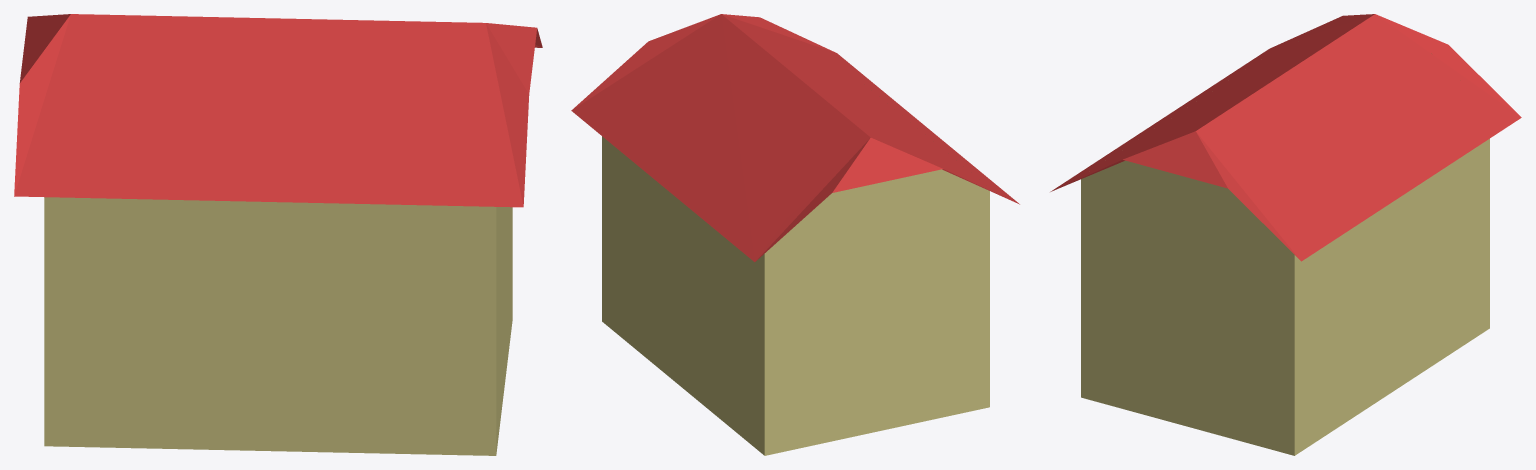
3 views of the same model, side by side, from view 1: azimuth 30°, elevation 25°; view 2: azimuth 150°, elevation 25°; view 3: azimuth 270°, elevation 25° (orthographic). The views are drawn at different scales.
Visible parts, largest first — view 1: group_5, group_3, group_4; view 2: group_5, group_3, group_4; view 3: group_5, group_3, group_4.
Part boxes in pixels (x1,y1,x2,y2): group_5: (44, 197, 512, 455); group_3: (14, 14, 541, 207); group_4: (14, 28, 542, 207); group_5: (602, 136, 989, 455); group_3: (571, 14, 1007, 261); group_4: (571, 30, 1019, 261); group_5: (1081, 53, 1489, 455); group_3: (1082, 14, 1521, 260); group_4: (1050, 39, 1520, 261).
Bounding box in the file's own units: 21.92 × 20.57 × 13.94.
